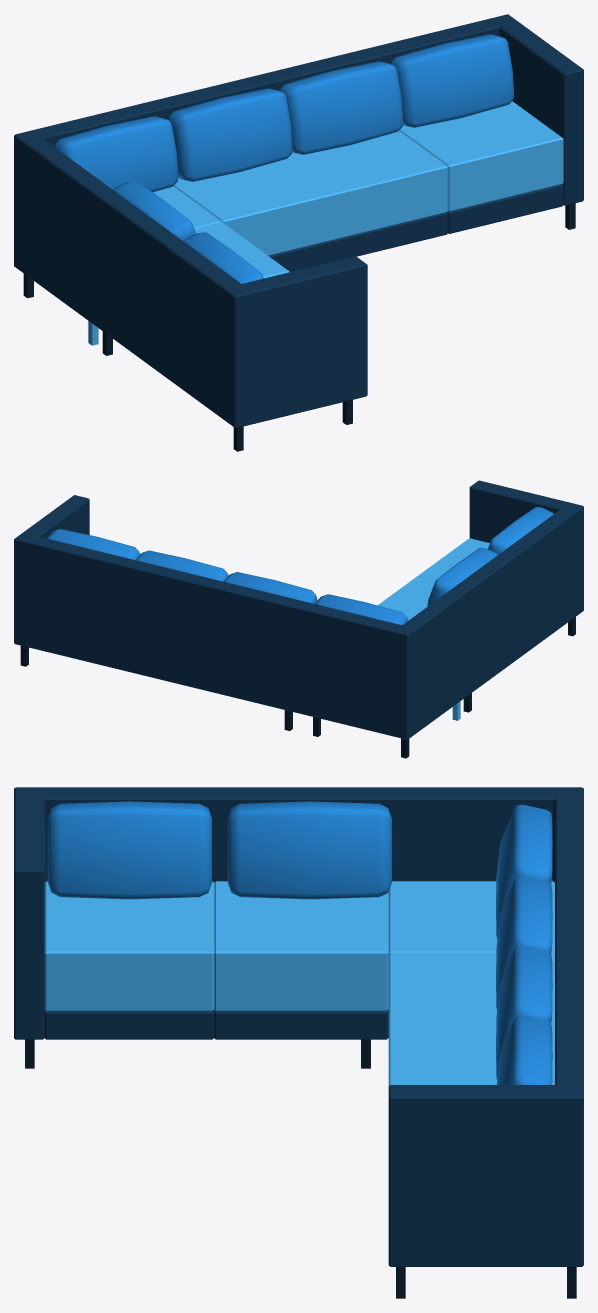
The model's file is Prop_Sofa_06_A.fbx.
3 views of the same model, one above another, from view 1: azimuth 30°, elevation 25°; view 2: azimuth 150°, elevation 25°; view 3: azimuth 270°, elevation 25° (orthographic). The views are drawn at different scales.
Parts seen in each view (by area): view 1: Prop_Sofa_06_A; view 2: Prop_Sofa_06_A; view 3: Prop_Sofa_06_A.
Boxes of the visible parts, <box> form: Prop_Sofa_06_A: <box>14,14,583,451</box>; Prop_Sofa_06_A: <box>14,480,583,758</box>; Prop_Sofa_06_A: <box>14,787,583,1298</box>.
Size of the model in its own units: 284 by 89.51 by 220.
